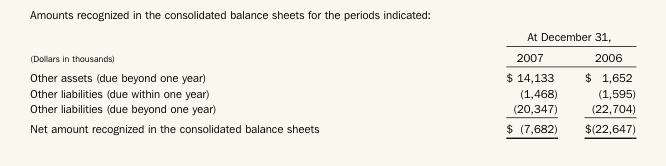table: (29, 29, 635, 134)
table column: (29, 29, 411, 134), (411, 29, 570, 134), (570, 29, 635, 134)
table column header: (29, 29, 635, 67)
table row: (29, 46, 635, 67), (29, 99, 635, 117), (29, 29, 635, 46), (29, 67, 635, 84), (29, 117, 635, 134), (29, 84, 635, 99)
table spanning cell: (29, 29, 411, 67), (411, 29, 635, 46)
